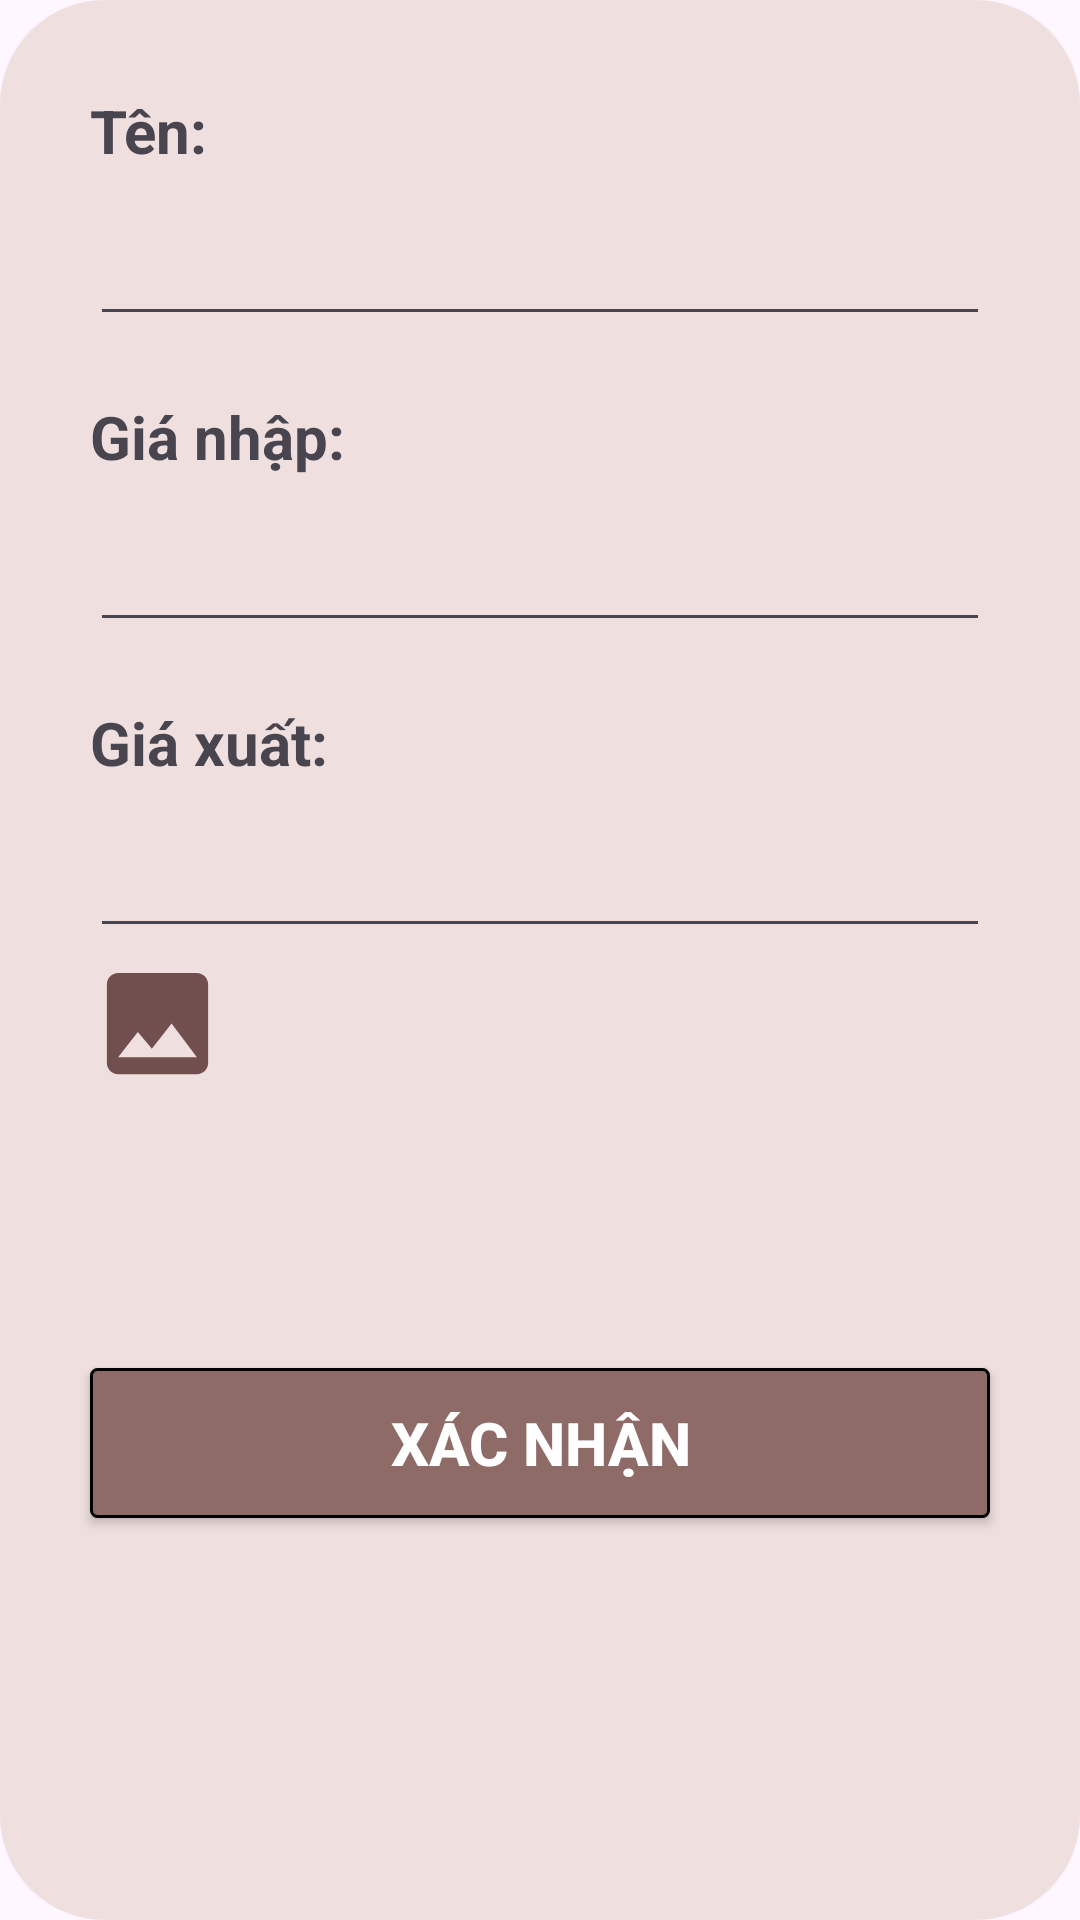

Icon click points for this 1080 x 1920 phone screenshot, format (x,y):
icmoanh: (157,1024)
